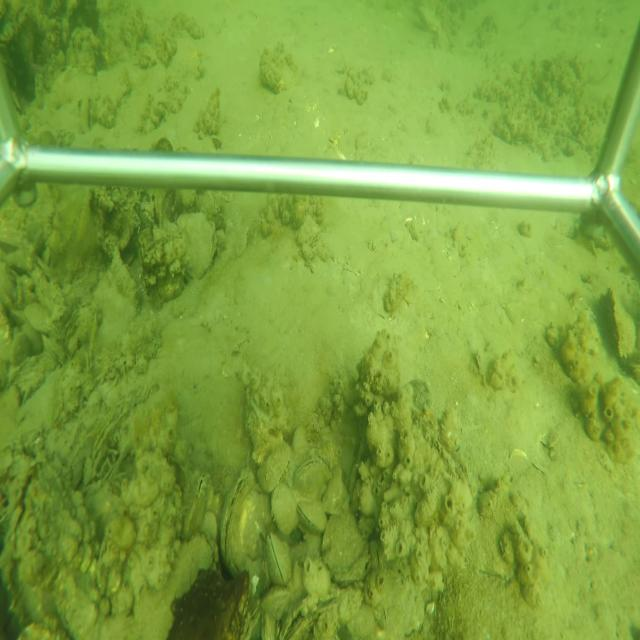Oyster-Closed: (220, 470, 269, 579), (177, 209, 218, 280), (108, 244, 142, 311), (608, 288, 635, 364), (269, 480, 302, 537), (259, 437, 292, 492), (294, 452, 331, 496), (264, 532, 293, 586), (297, 500, 326, 532), (244, 602, 263, 640), (260, 612, 270, 638)
Oyster-Indeterminate: (320, 512, 370, 586)
Oyster-Open: (9, 455, 95, 619), (276, 589, 349, 638)
